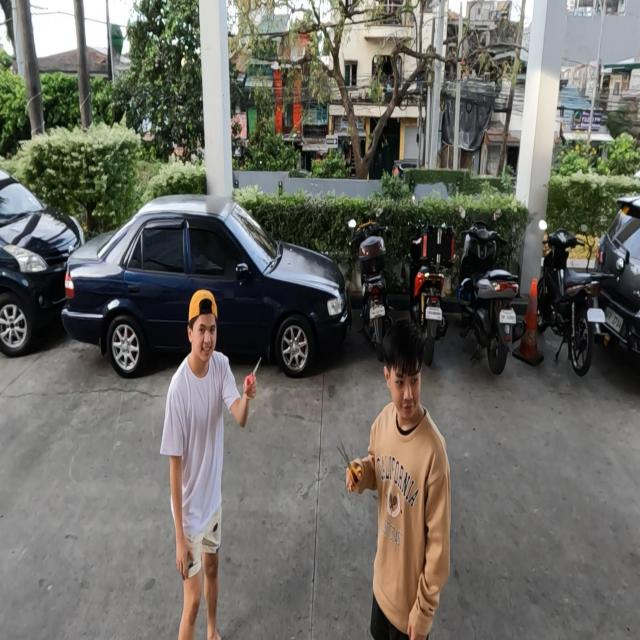scissor: (337, 439, 364, 493), (244, 356, 262, 398)
